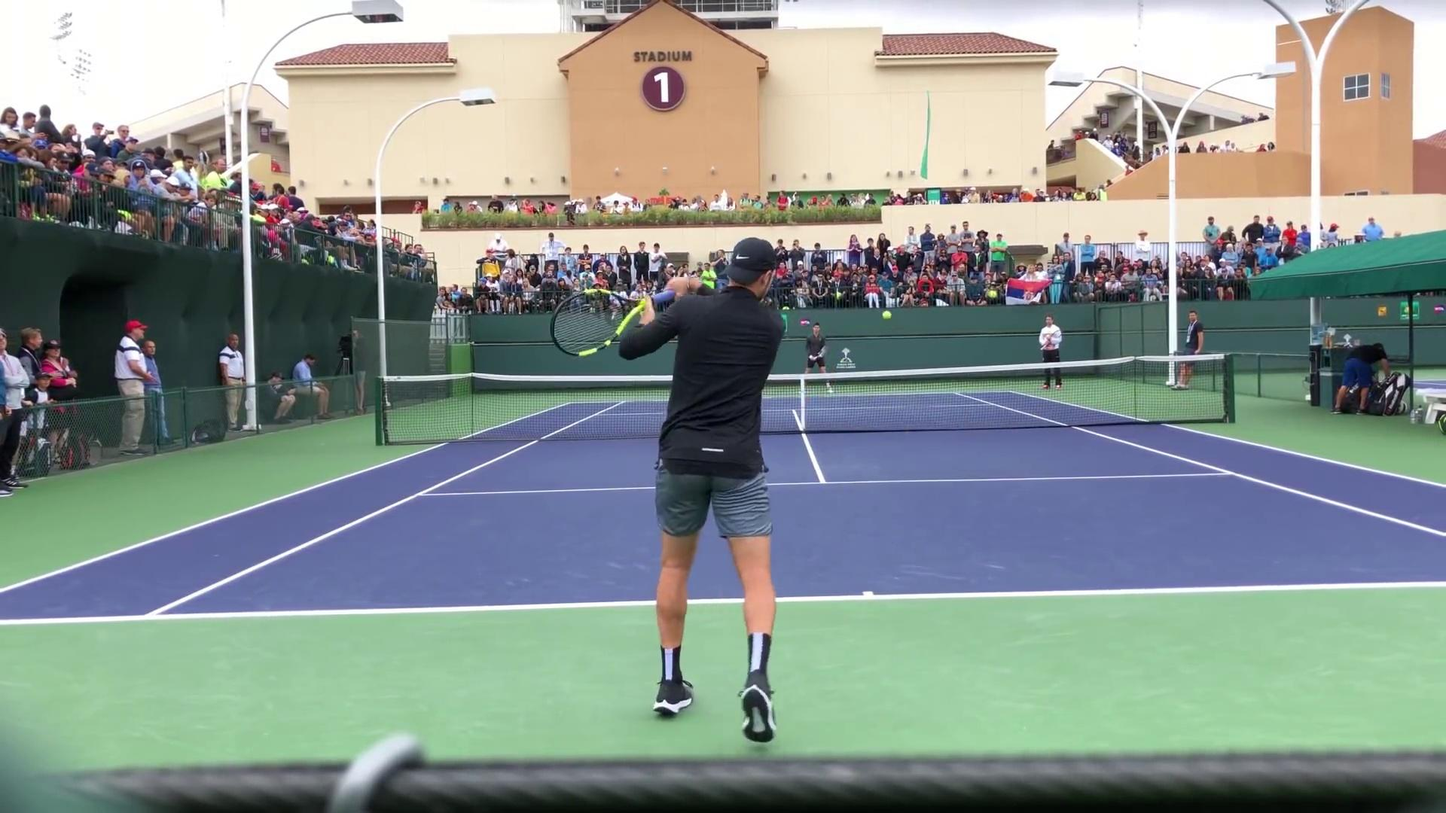ball: (881, 310, 892, 319), (531, 441, 537, 446)
